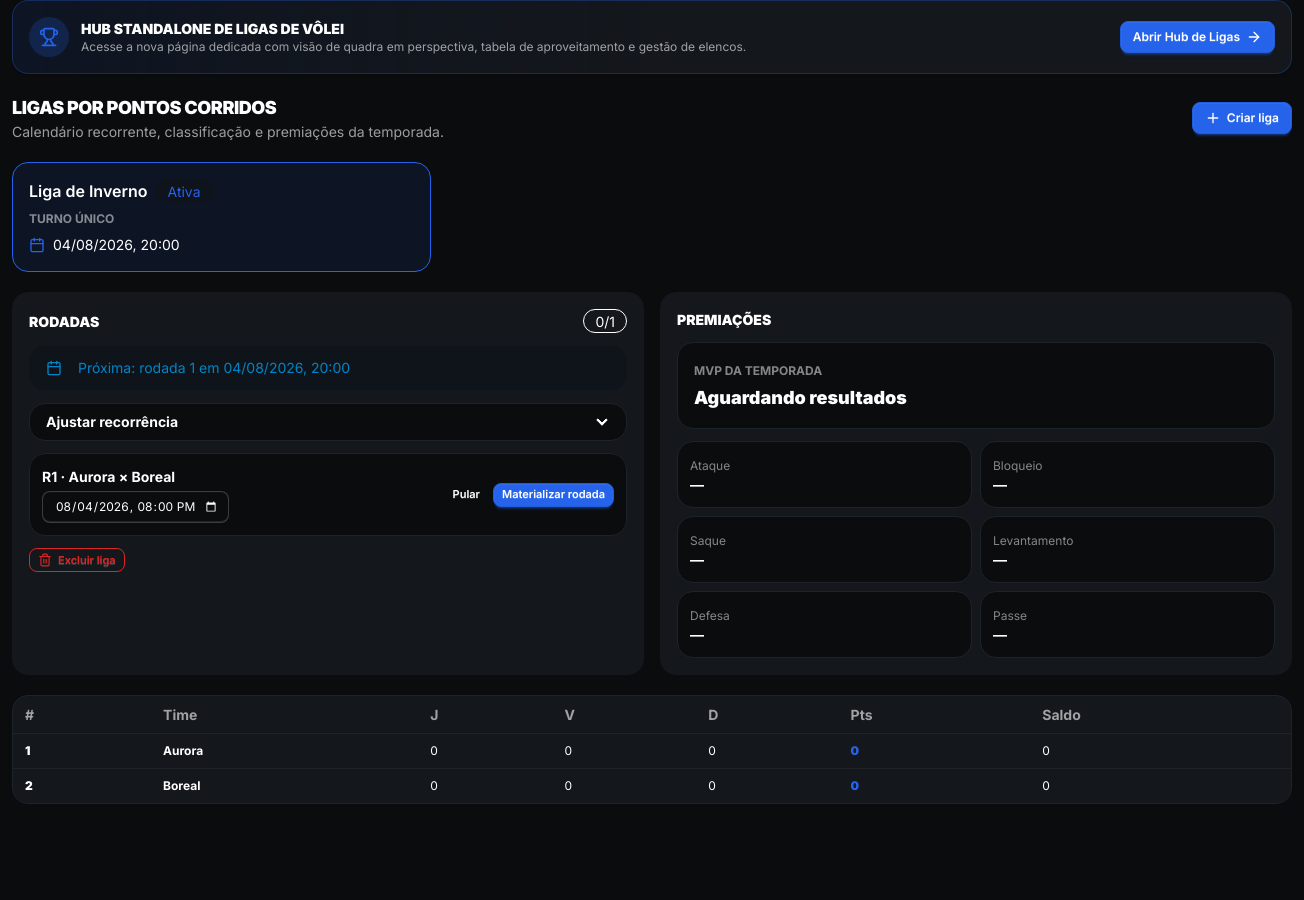
Test case: CommunityLeaguesArea › materializes an unmaterialized round through the supplied command
The width and height of the screenshot is (1304, 900).
Click the button "Materializar rodada" at (554, 494), box [493,482,614,506]
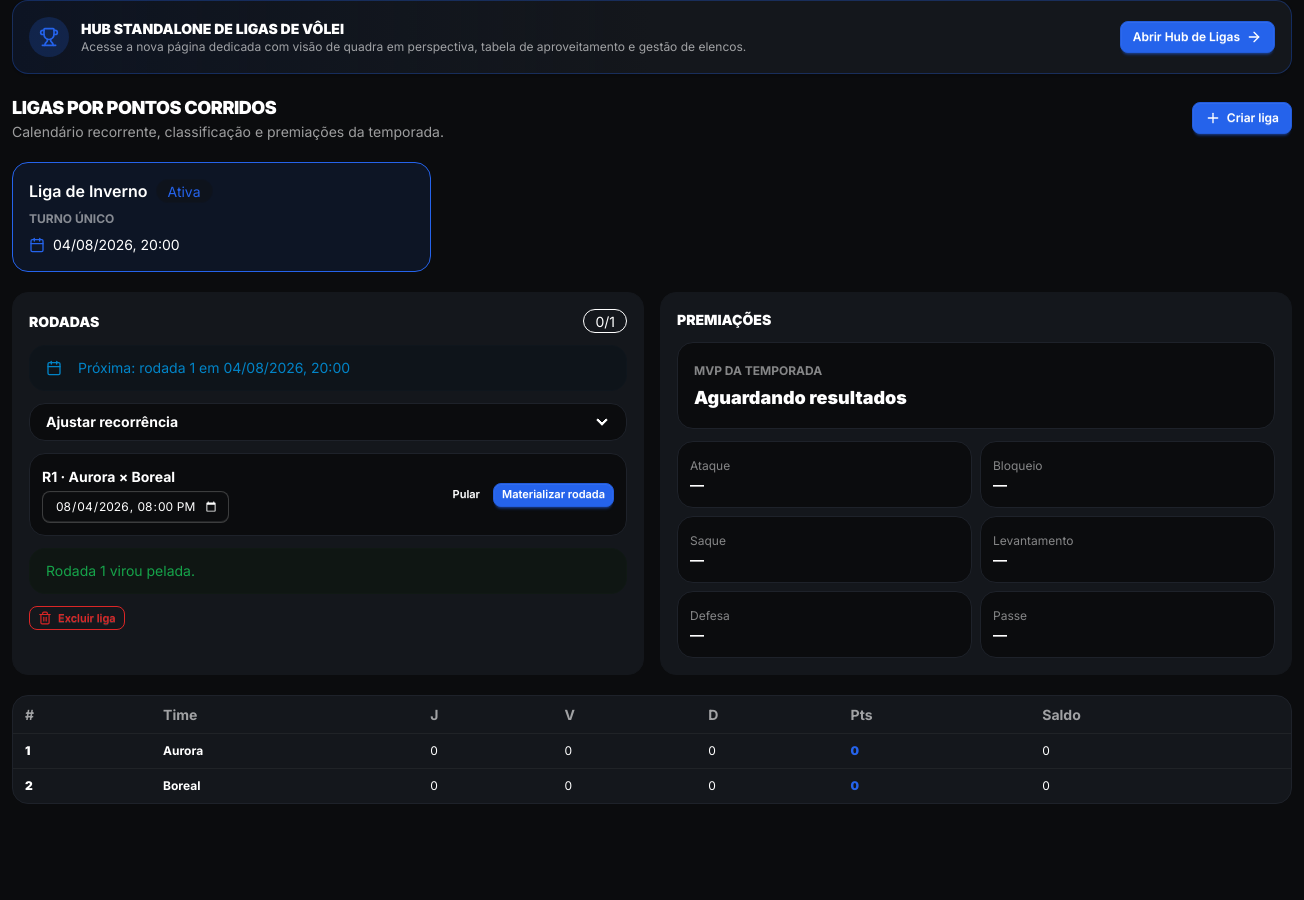
Expected: the text "Rodada 1 virou pelada." is shown, [29,548,627,594]
